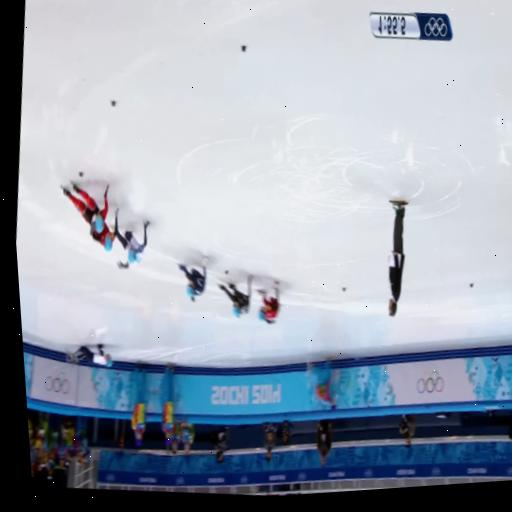Skater: (63, 183, 115, 250), (63, 183, 109, 232), (115, 208, 149, 268), (218, 275, 253, 316), (178, 256, 207, 301), (67, 344, 112, 366), (258, 281, 280, 323)
